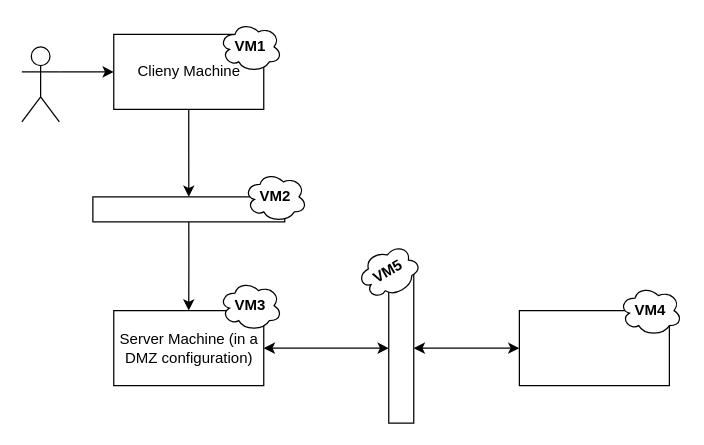
Some shapes in this 704 by 445 pixel diagram are drawn without their labels. Each missing label, with the box of its shape:
Central Firewall: (92, 196, 285, 222)
Database Firewall: (388, 272, 414, 423)
Database Machine: (518, 309, 669, 386)
User: (21, 46, 59, 122)
